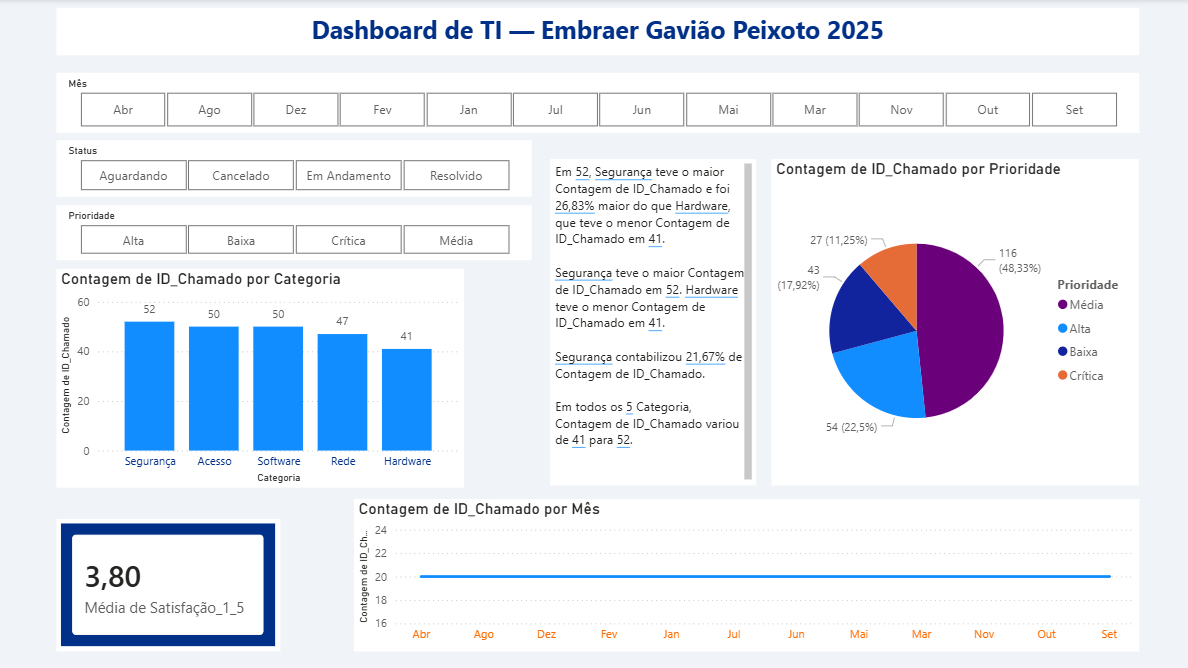

This screenshot's page, from the dashboard's own definition file:
{"tool":"powerbi","page":{"name":"Página 1","canvas":[1280,720],"ordinal":0},"visuals":[{"type":"columnChart","fields":{"Category":["CONTROLE DE CHAMADOS DE TI – EMBRAER GAVIÃO PEIXOTO (2025) (Chamados_TI).Categoria"],"Y":["CountNonNull(CONTROLE DE CHAMADOS DE TI – EMBRAER GAVIÃO PEIXOTO (2025) (Chamados_TI).ID_Chamado)"]},"box":[61.9,290.5,438.4,235.3],"z":0},{"type":"textbox","box":[593.1,172.1,221.9,351],"z":1},{"type":"lineChart","fields":{"Category":["CONTROLE DE CHAMADOS DE TI – EMBRAER GAVIÃO PEIXOTO (2025) (Chamados_TI).Mês"],"Y":["CountNonNull(CONTROLE DE CHAMADOS DE TI – EMBRAER GAVIÃO PEIXOTO (2025) (Chamados_TI).ID_Chamado)"]},"box":[381.9,537.9,844.5,164.1],"z":2},{"type":"pieChart","fields":{"Category":["CONTROLE DE CHAMADOS DE TI – EMBRAER GAVIÃO PEIXOTO (2025) (Chamados_TI).Prioridade"],"Y":["CountNonNull(CONTROLE DE CHAMADOS DE TI – EMBRAER GAVIÃO PEIXOTO (2025) (Chamados_TI).ID_Chamado)"]},"box":[831.1,172.1,395.4,351],"z":3},{"type":"cardVisual","fields":{"Data":["Avg(CONTROLE DE CHAMADOS DE TI – EMBRAER GAVIÃO PEIXOTO (2025) (Chamados_TI).Satisfação_1_5)"]},"box":[61.9,559.4,240.7,142.6],"z":4},{"type":"textbox","box":[61.9,9.4,1164.6,51.1],"z":5},{"type":"slicer","fields":{"Values":["CONTROLE DE CHAMADOS DE TI – EMBRAER GAVIÃO PEIXOTO (2025) (Chamados_TI).Mês"]},"box":[61.9,79.3,1164.6,64.6],"z":6},{"type":"slicer","fields":{"Values":["CONTROLE DE CHAMADOS DE TI – EMBRAER GAVIÃO PEIXOTO (2025) (Chamados_TI).Prioridade"]},"box":[61.9,221.9,511,59.2],"z":7},{"type":"slicer","fields":{"Values":["CONTROLE DE CHAMADOS DE TI – EMBRAER GAVIÃO PEIXOTO (2025) (Chamados_TI).Status"]},"box":[61.9,152,511,60.5],"z":8}]}

Visuals, with their boxes in screenshot pixels (x1, y1, x2, y2), scaled from the page's 1280x720 canvas onto the 1188x668 screenshot:
columnChart - CONTROLE DE CHAMADOS DE TI – EMBRAER GAVIÃO PEIXOTO (2025) (Chamados_TI).Categoria x CountNonNull(CONTROLE DE CHAMADOS DE TI – EMBRAER GAVIÃO PEIXOTO (2025) (Chamados_TI).ID_Chamado): {"left": 57, "top": 270, "right": 464, "bottom": 488}
textbox: {"left": 550, "top": 160, "right": 756, "bottom": 485}
lineChart - CONTROLE DE CHAMADOS DE TI – EMBRAER GAVIÃO PEIXOTO (2025) (Chamados_TI).Mês x CountNonNull(CONTROLE DE CHAMADOS DE TI – EMBRAER GAVIÃO PEIXOTO (2025) (Chamados_TI).ID_Chamado): {"left": 354, "top": 499, "right": 1138, "bottom": 651}
pieChart - CONTROLE DE CHAMADOS DE TI – EMBRAER GAVIÃO PEIXOTO (2025) (Chamados_TI).Prioridade x CountNonNull(CONTROLE DE CHAMADOS DE TI – EMBRAER GAVIÃO PEIXOTO (2025) (Chamados_TI).ID_Chamado): {"left": 771, "top": 160, "right": 1138, "bottom": 485}
cardVisual - Avg(CONTROLE DE CHAMADOS DE TI – EMBRAER GAVIÃO PEIXOTO (2025) (Chamados_TI).Satisfação_1_5): {"left": 57, "top": 519, "right": 281, "bottom": 651}
textbox: {"left": 57, "top": 9, "right": 1138, "bottom": 56}
slicer - CONTROLE DE CHAMADOS DE TI – EMBRAER GAVIÃO PEIXOTO (2025) (Chamados_TI).Mês: {"left": 57, "top": 74, "right": 1138, "bottom": 134}
slicer - CONTROLE DE CHAMADOS DE TI – EMBRAER GAVIÃO PEIXOTO (2025) (Chamados_TI).Prioridade: {"left": 57, "top": 206, "right": 532, "bottom": 261}
slicer - CONTROLE DE CHAMADOS DE TI – EMBRAER GAVIÃO PEIXOTO (2025) (Chamados_TI).Status: {"left": 57, "top": 141, "right": 532, "bottom": 197}
